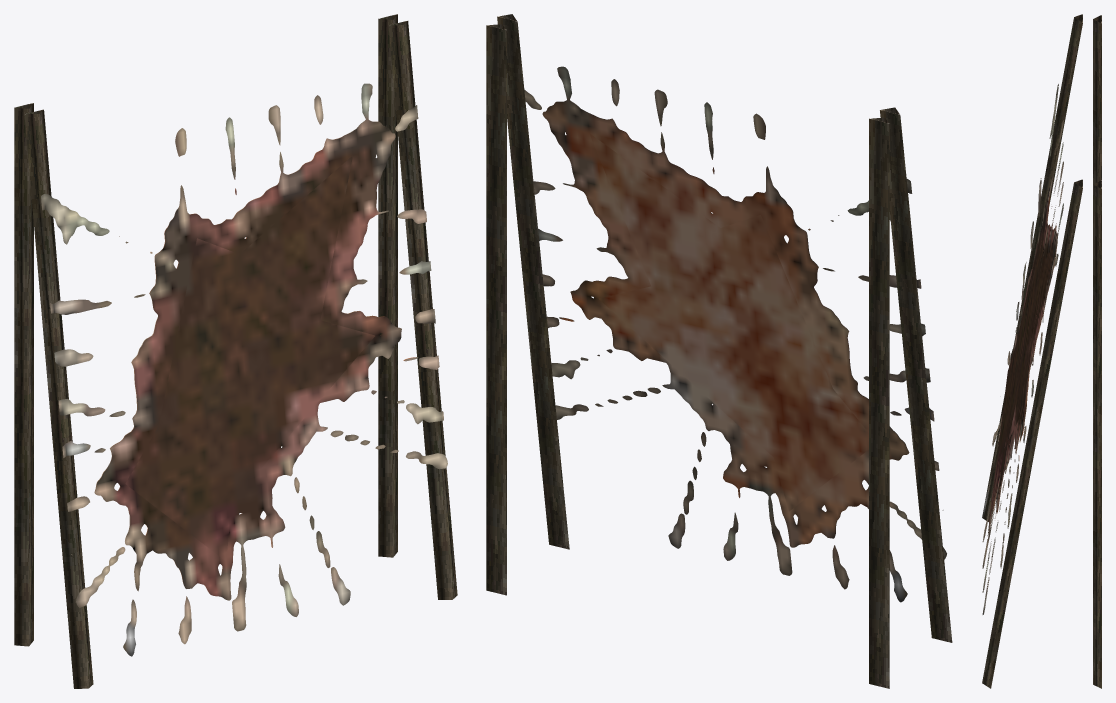
The model's file is thm_dant_hide_tanning_s01_l4.fbx.
3 renders of one model, left to right at view 1: azimuth 30°, elevation 25°; view 2: azimuth 150°, elevation 25°; view 3: azimuth 270°, elevation 25°, orthographic. The views are drawn at different scales.
Visible parts, largest first — view 1: mesh_node; view 2: mesh_node; view 3: mesh_node.
Part boxes in pixels (x1,y1,x2,y2): mesh_node: [14, 14, 457, 688]; mesh_node: [486, 14, 952, 688]; mesh_node: [982, 14, 1101, 688].
Size of the model in its own units: 1.35 by 1.81 by 0.3916.
Materials: 2 (2 with a texture image).
